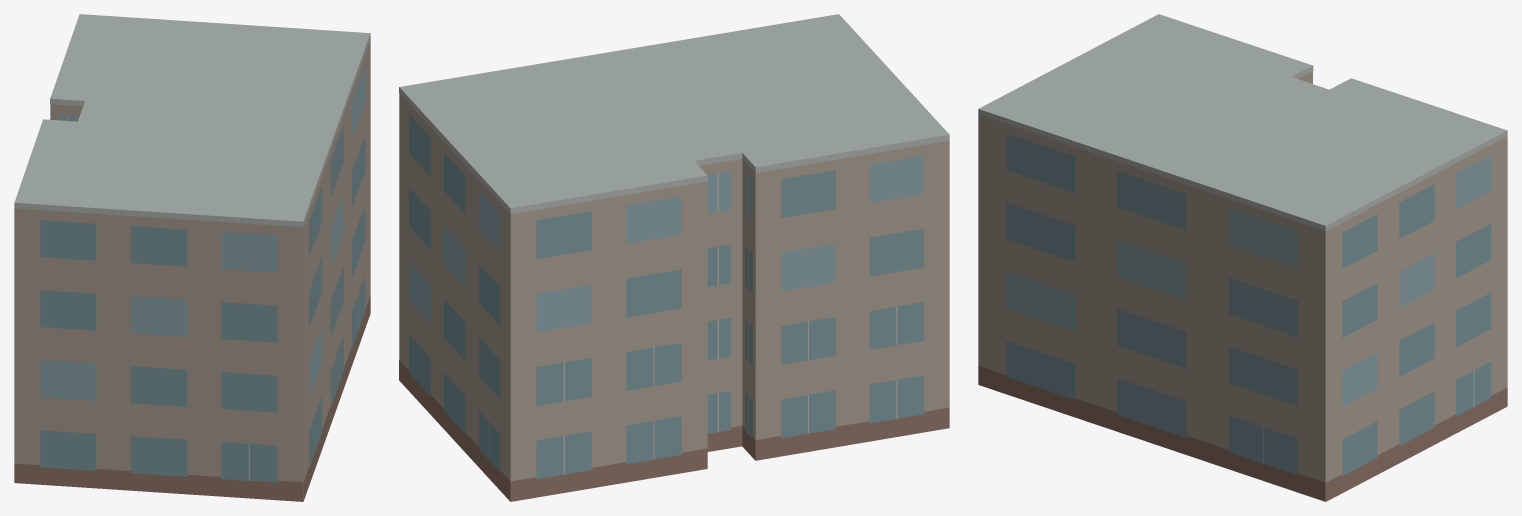
The model's file is survey-upis-32670085.glb.
3 renders of one model, left to right at view 1: azimuth 30°, elevation 25°; view 2: azimuth 150°, elevation 25°; view 3: azimuth 270°, elevation 25°, orthographic. The views are drawn at different scales.
Visible parts, largest first — view 1: survey-upis-32670085.tmp; view 2: survey-upis-32670085.tmp; view 3: survey-upis-32670085.tmp.
Boxes of the visible parts, box(x1,y1,x2,y2) form: survey-upis-32670085.tmp: box(14, 14, 370, 501); survey-upis-32670085.tmp: box(399, 14, 949, 501); survey-upis-32670085.tmp: box(978, 14, 1507, 501).
Bounding box in the file's own units: 20.1 × 12.2 × 21.21.
